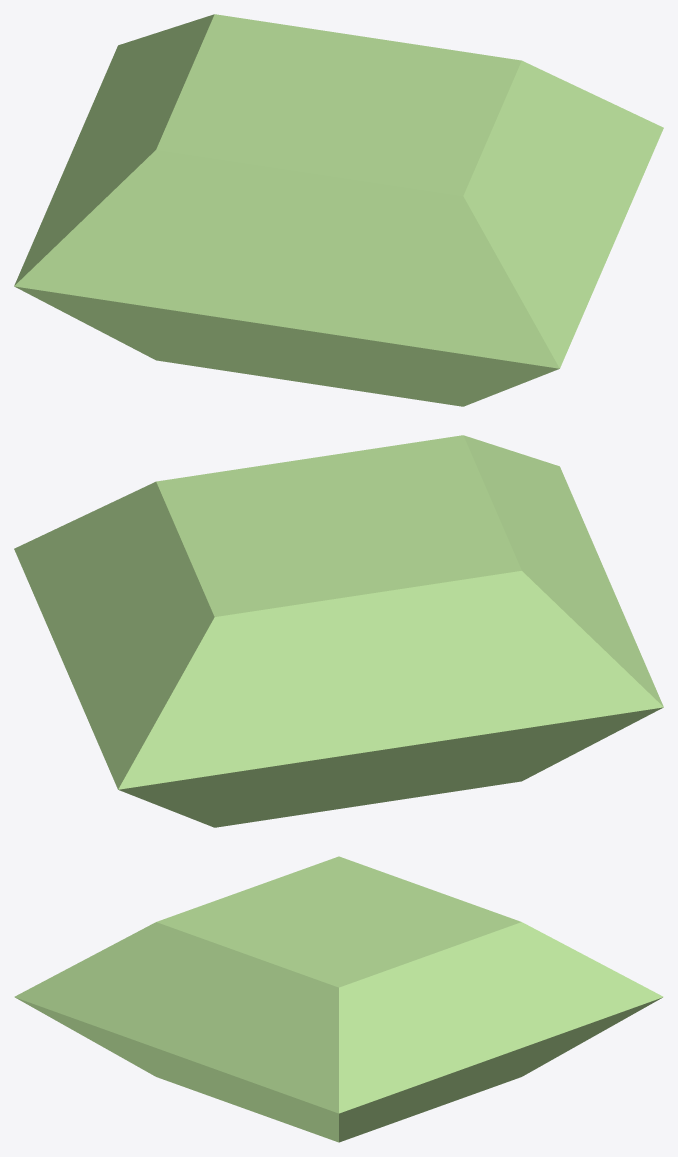
The model's file is GemAgile.fbx.
3 renders of one model, top to bottom at view 1: azimuth 30°, elevation 25°; view 2: azimuth 150°, elevation 25°; view 3: azimuth 270°, elevation 25°, orthographic. The views are drawn at different scales.
Visible parts, largest first — view 1: Cube; view 2: Cube; view 3: Cube.
Part boxes in pixels (x1=…): Cube: x1=14, y1=14, x2=663, y2=406; Cube: x1=14, y1=435, x2=663, y2=827; Cube: x1=14, y1=856, x2=663, y2=1142.
Bounding box in the file's own units: 34.51 × 10.69 × 40.64.
